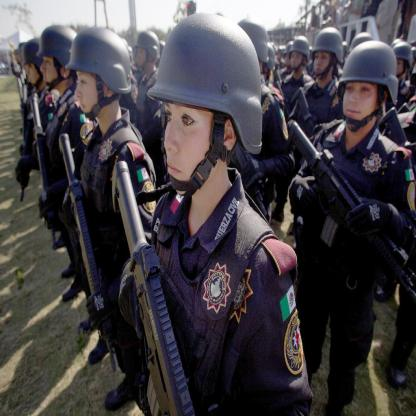Helmet: (136, 14, 264, 208), (64, 26, 132, 122), (344, 41, 402, 137), (275, 27, 374, 82), (35, 27, 76, 96), (237, 15, 266, 64), (134, 30, 160, 76), (22, 38, 44, 90), (389, 40, 416, 79), (262, 40, 275, 72), (158, 42, 165, 60), (17, 43, 24, 58)
